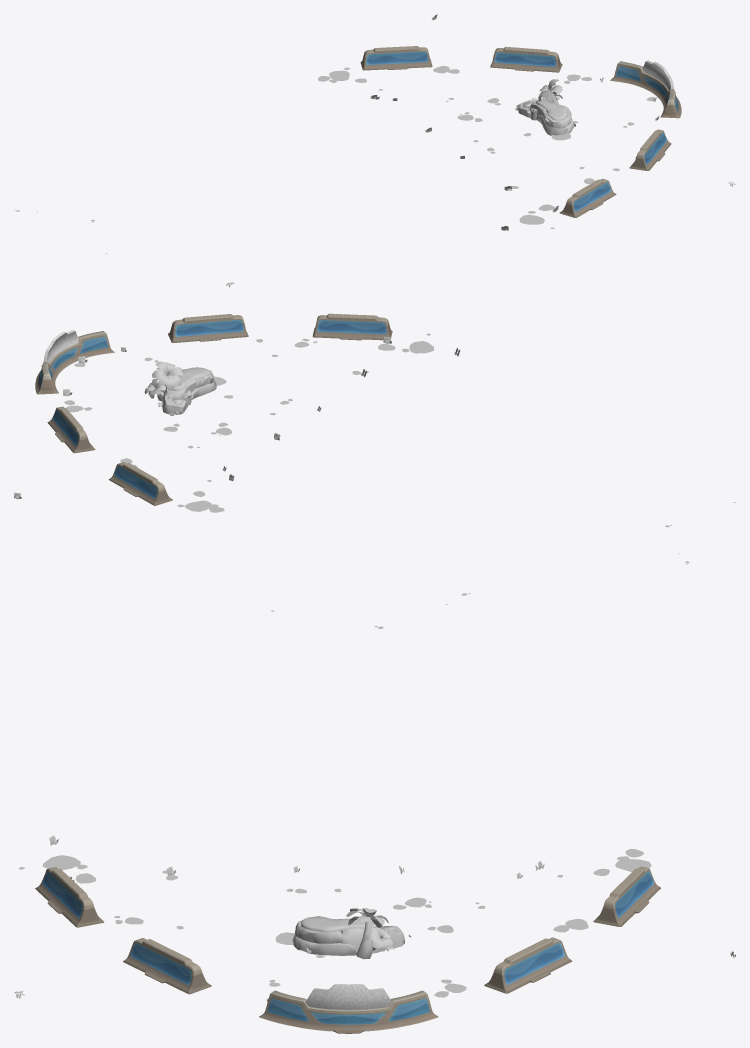
File: pref_Area02_Sand_Small_lv3.fbx
The picture shows the model from 3 angles, top to bottom: view 1: azimuth 30°, elevation 25°; view 2: azimuth 150°, elevation 25°; view 3: azimuth 270°, elevation 25°; orthographic projection. The views are drawn at different scales.
Visible parts, largest first — view 1: pref_sm_beach_techobstacle07a_lv3 (9), pref_sm_beach_techobstacle07a_lv3 (8), sm_beach_techobstacle08a_lv3, pref_sm_beach_techobstacle10_lv3, pref_sm_beach_techobstacle07a_lv3 (6), pref_sm_beach_techobstacle07a_lv3 (7), sm_beach_techobstacle08b_lv3; view 2: pref_sm_beach_techobstacle07a_lv3 (7), pref_sm_beach_techobstacle07a_lv3 (6), sm_beach_techobstacle08a_lv3, pref_sm_beach_techobstacle10_lv3, pref_sm_beach_techobstacle07a_lv3 (9), pref_sm_beach_techobstacle07a_lv3 (8), pref_sm_beach_techctree04_lv3 (1), sm_beach_techobstacle08b_lv3; view 3: sm_beach_techobstacle08a_lv3, pref_sm_beach_techobstacle10_lv3, pref_sm_beach_techobstacle07a_lv3 (7), pref_sm_beach_techobstacle07a_lv3 (8), pref_sm_beach_techobstacle07a_lv3 (6), pref_sm_beach_techobstacle07a_lv3 (9), sm_beach_techobstacle08b_lv3, pref_sm_beach_techctree04_lv3 (1).
Boxes of the visible parts, x1,y1,x2,y2 form: pref_sm_beach_techobstacle07a_lv3 (9): [360, 46, 432, 70]; pref_sm_beach_techobstacle07a_lv3 (8): [490, 46, 562, 72]; sm_beach_techobstacle08a_lv3: [610, 61, 681, 118]; pref_sm_beach_techobstacle10_lv3: [518, 98, 574, 135]; pref_sm_beach_techobstacle07a_lv3 (6): [559, 178, 616, 217]; pref_sm_beach_techobstacle07a_lv3 (7): [629, 129, 671, 170]; sm_beach_techobstacle08b_lv3: [642, 60, 673, 89]; pref_sm_beach_techobstacle07a_lv3 (7): [168, 314, 248, 342]; pref_sm_beach_techobstacle07a_lv3 (6): [312, 313, 392, 340]; sm_beach_techobstacle08a_lv3: [35, 331, 114, 394]; pref_sm_beach_techobstacle10_lv3: [162, 367, 216, 414]; pref_sm_beach_techobstacle07a_lv3 (9): [108, 462, 172, 505]; pref_sm_beach_techobstacle07a_lv3 (8): [47, 406, 95, 453]; pref_sm_beach_techctree04_lv3 (1): [152, 361, 184, 401]; sm_beach_techobstacle08b_lv3: [43, 330, 78, 363]; sm_beach_techobstacle08a_lv3: [259, 990, 438, 1033]; pref_sm_beach_techobstacle10_lv3: [292, 916, 405, 955]; pref_sm_beach_techobstacle07a_lv3 (7): [123, 938, 211, 994]; pref_sm_beach_techobstacle07a_lv3 (8): [484, 937, 572, 993]; pref_sm_beach_techobstacle07a_lv3 (6): [35, 867, 103, 927]; pref_sm_beach_techobstacle07a_lv3 (9): [593, 866, 660, 926]; sm_beach_techobstacle08b_lv3: [305, 984, 391, 1009]; pref_sm_beach_techctree04_lv3 (1): [346, 908, 388, 959].
Size of the model in its own units: 64.67 by 3.42 by 44.8.
